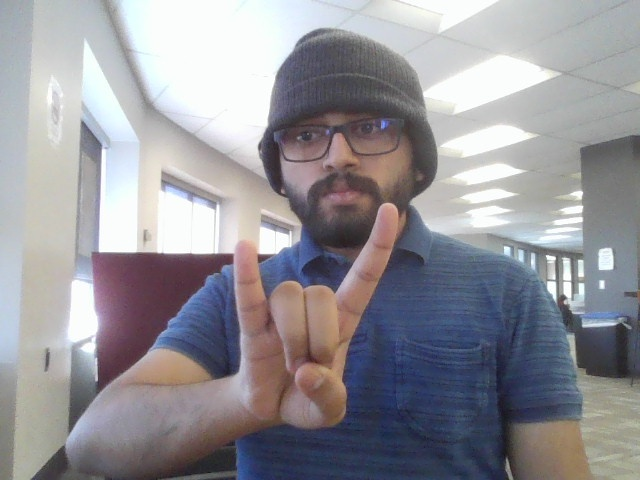help: (213, 194, 412, 457)
